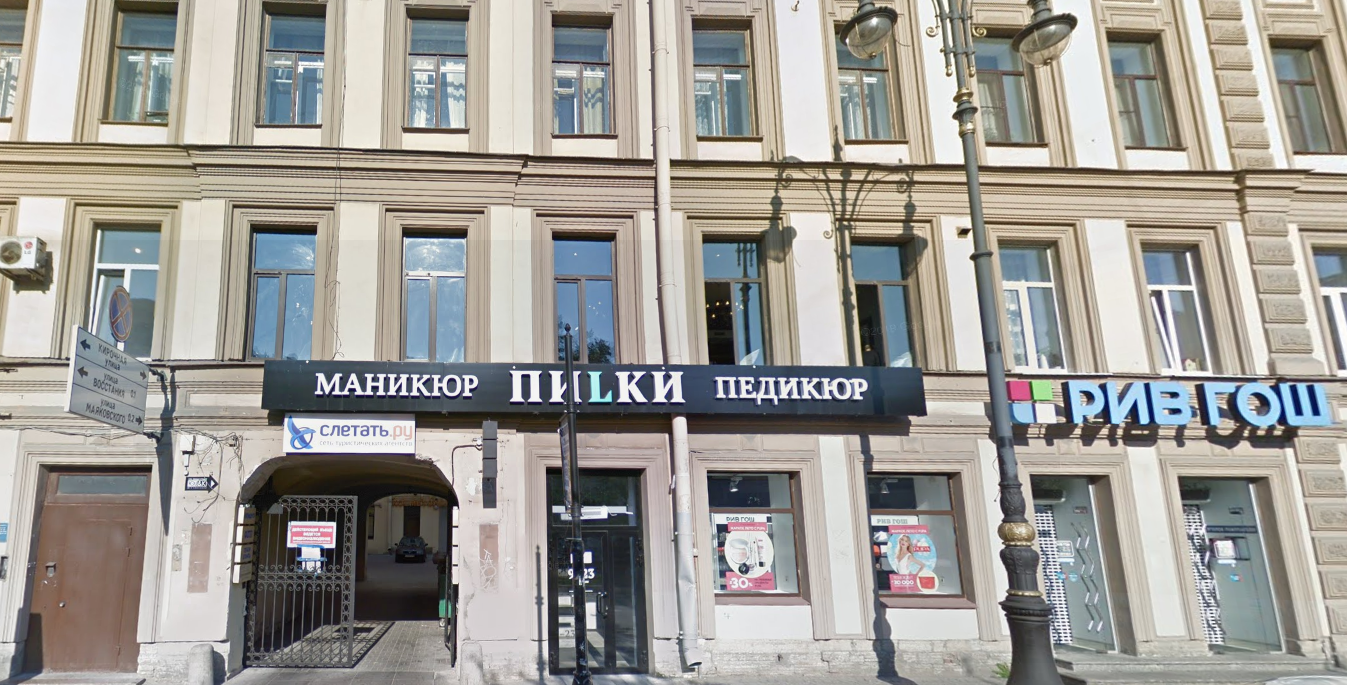arch: (226, 454, 462, 679)
cantilever: (479, 419, 502, 485)
door: (19, 496, 147, 681), (1180, 482, 1292, 657), (1037, 474, 1124, 653)
signboard: (262, 368, 921, 414), (1006, 375, 1328, 439), (283, 411, 422, 454)
window: (870, 471, 969, 596), (709, 475, 805, 598), (1000, 230, 1076, 371), (1141, 241, 1213, 375), (857, 235, 925, 371), (704, 233, 771, 368), (244, 227, 314, 356), (87, 227, 161, 344), (405, 229, 468, 364), (1272, 40, 1347, 153), (834, 21, 905, 140), (548, 18, 619, 137), (1111, 33, 1187, 144), (971, 32, 1045, 145), (260, 1, 324, 129), (695, 15, 757, 141), (555, 234, 614, 366), (406, 9, 469, 131), (116, 1, 171, 120)
